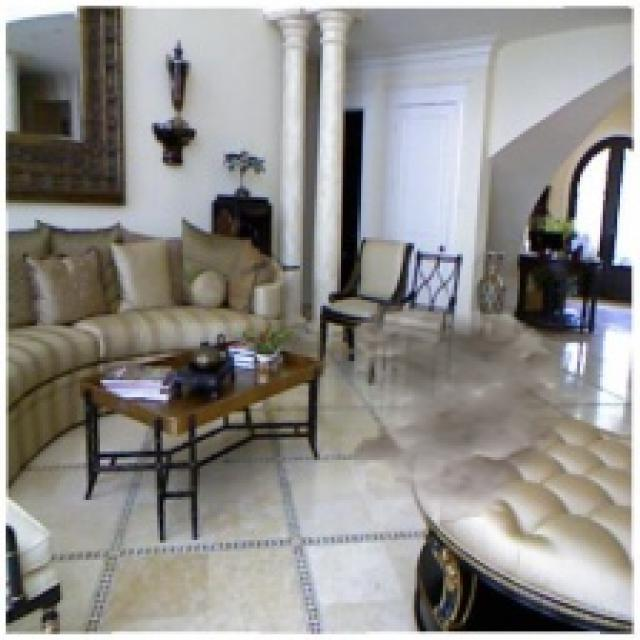Smoke: (343, 300, 591, 523)
